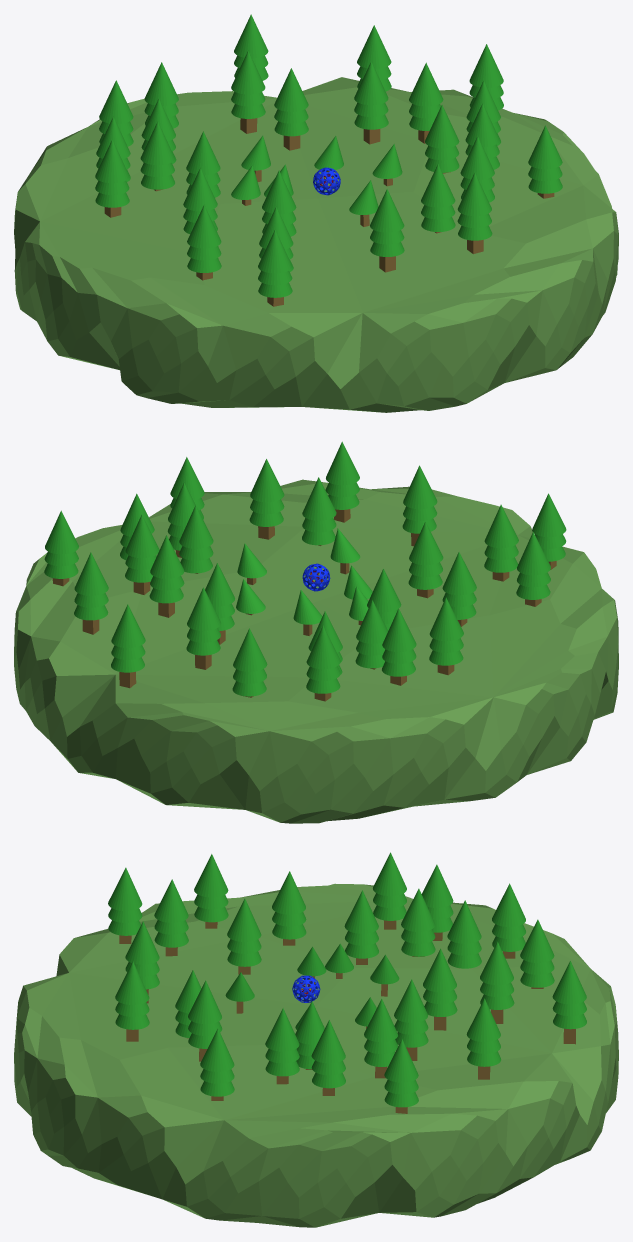
The model's file is simple_scene.glb.
3 views of the same model, one above another, from view 1: azimuth 30°, elevation 25°; view 2: azimuth 150°, elevation 25°; view 3: azimuth 270°, elevation 25° (orthographic).
Parts seen in each view (by area): view 1: Cylinder, Cone.001, Cone.002, Cone.027, Cone.020, Cone.009, Cone.021, Cone.024, Cone.023, Cone.007, Cone.025, Cone.022 (+22 smaller); view 2: Cylinder, Cone.011, Cone.010, Cone.001, Cone.002, Cone.018, Cone.021, Cone.006, Cone.003, Cone.009, Cone.012, Cone.015 (+21 smaller); view 3: Cylinder, Cone.011, Cone.009, Cone.020, Cone.010, Cone.001, Cone.006, Cone.026, Cone.015, Cone.021, Cone.008, Cone.017 (+21 smaller).
Part boxes in pixels (bbox=[...]): Cylinder: bbox=[14, 77, 618, 412]; Cone.001: bbox=[231, 50, 265, 133]; Cone.002: bbox=[354, 61, 388, 144]; Cone.027: bbox=[370, 189, 404, 272]; Cone.020: bbox=[274, 68, 308, 150]; Cone.009: bbox=[457, 172, 492, 253]; Cone.021: bbox=[95, 139, 129, 217]; Cone.024: bbox=[258, 229, 292, 306]; Cone.023: bbox=[187, 205, 221, 280]; Cone.007: bbox=[528, 125, 562, 198]; Cone.025: bbox=[421, 164, 455, 233]; Cone.022: bbox=[140, 121, 174, 191]; Cylinder: bbox=[14, 479, 618, 823]; Cone.011: bbox=[111, 604, 145, 688]; Cone.010: bbox=[74, 552, 108, 634]; Cone.001: bbox=[186, 587, 221, 669]; Cone.002: bbox=[149, 535, 184, 617]; Cone.018: bbox=[249, 459, 284, 539]; Cone.021: bbox=[429, 597, 463, 675]; Cone.006: bbox=[484, 504, 518, 581]; Cone.003: bbox=[382, 608, 416, 685]; Cone.009: bbox=[325, 441, 359, 522]; Cone.012: bbox=[306, 625, 340, 701]; Cone.015: bbox=[408, 521, 443, 598]; Cylinder: bbox=[14, 883, 618, 1227]; Cone.011: bbox=[552, 961, 586, 1044]; Cone.009: bbox=[115, 961, 149, 1041]; Cone.020: bbox=[423, 948, 457, 1030]; Cone.010: bbox=[466, 998, 501, 1079]; Cone.001: bbox=[480, 941, 514, 1023]; Cone.006: bbox=[154, 879, 188, 956]; Cone.026: bbox=[265, 1008, 299, 1084]; Cone.015: bbox=[227, 898, 261, 974]; Cone.021: bbox=[373, 852, 406, 929]; Cone.008: bbox=[311, 1020, 345, 1095]; Cone.017: bbox=[384, 1039, 418, 1113].
Bounding box in the file's own units: 90.16 × 29.02 × 90.16.
